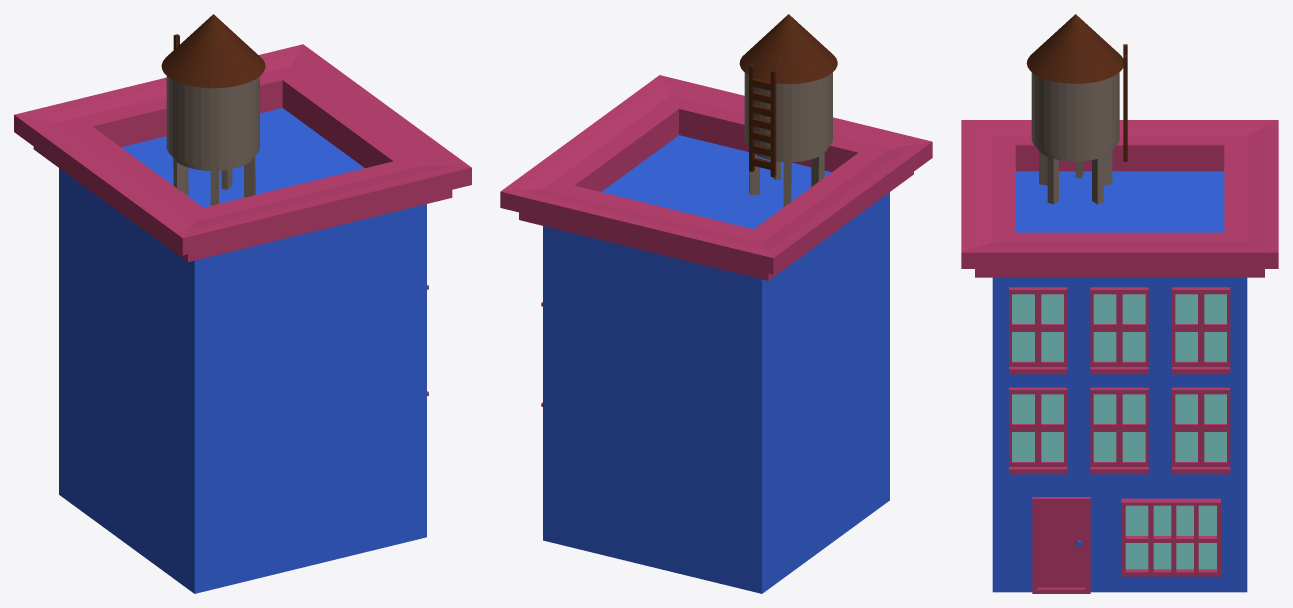
Rendered from apartmentv3.fbx.
3 views of the same model, side by side, from view 1: azimuth 30°, elevation 25°; view 2: azimuth 150°, elevation 25°; view 3: azimuth 270°, elevation 25° (orthographic). The views are drawn at different scales.
Parts seen in each view (by area): view 1: Cube.001; view 2: Cube.001; view 3: Cube.001.
Boxes of the visible parts, left/top/right/bottom form: Cube.001: left=14, top=14, right=471, bottom=593; Cube.001: left=500, top=14, right=932, bottom=593; Cube.001: left=961, top=14, right=1278, bottom=593.
Size of the model in its own units: 2691 by 4733 by 2720.
